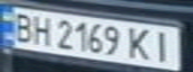1: (69, 19, 90, 53)
2: (51, 16, 75, 51)
6: (84, 21, 106, 55)
9: (103, 23, 127, 57)
B: (6, 10, 39, 43)
H: (27, 12, 54, 47)
I: (148, 28, 181, 63)
K: (124, 25, 157, 61)
